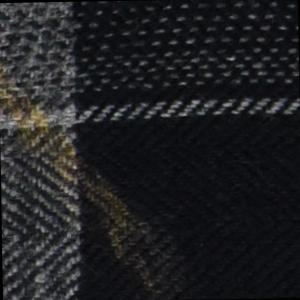Stain: (1, 57, 199, 300)
